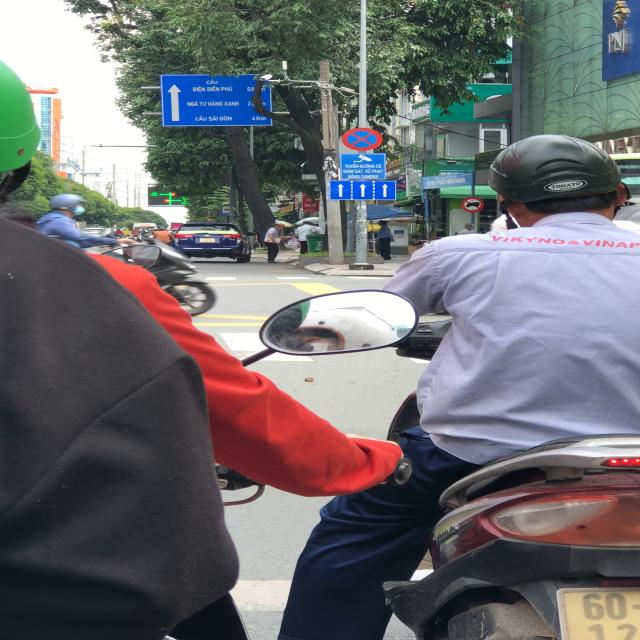Bien bao cam dung xe va do xe: (339, 125, 388, 150)
